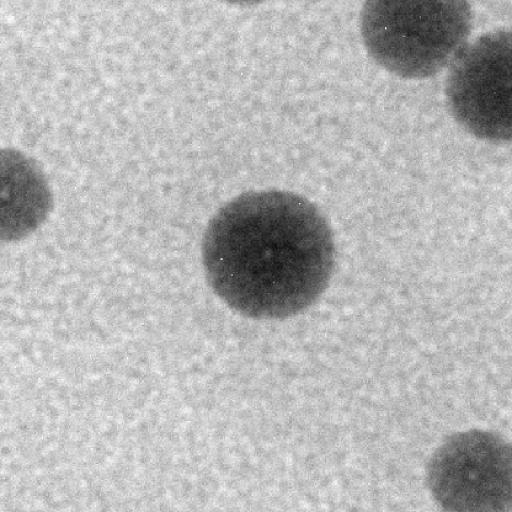Nanoparticles: (199, 186, 337, 318), (359, 1, 474, 82), (444, 28, 512, 144), (427, 424, 512, 512), (0, 142, 56, 245)
